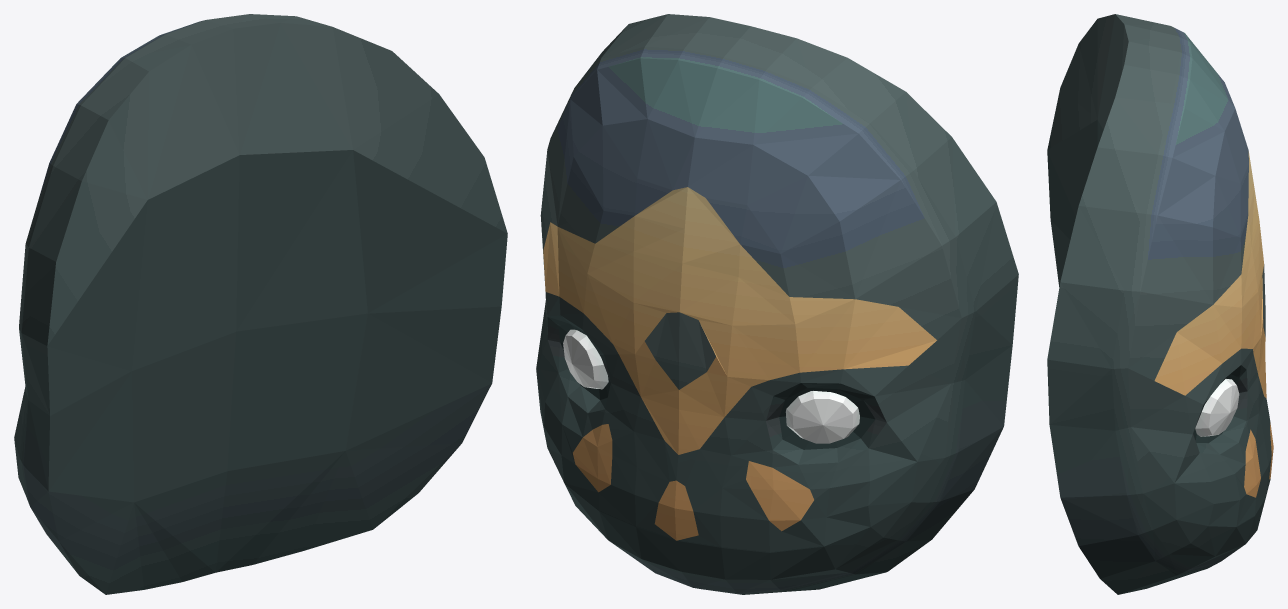
Rendered from CharSkyKid_Mask_AP10QuestGiver_01.glb.
3 views of the same model, side by side, from view 1: azimuth 30°, elevation 25°; view 2: azimuth 150°, elevation 25°; view 3: azimuth 270°, elevation 25° (orthographic). The views are drawn at different scales.
Visible parts, largest first — view 1: CharSkyKid_Mask_AP10QuestGiver_01; view 2: CharSkyKid_Mask_AP10QuestGiver_01; view 3: CharSkyKid_Mask_AP10QuestGiver_01.
Boxes of the visible parts, x1=… form: CharSkyKid_Mask_AP10QuestGiver_01: x1=14, y1=14, x2=507, y2=594; CharSkyKid_Mask_AP10QuestGiver_01: x1=536, y1=14, x2=1018, y2=594; CharSkyKid_Mask_AP10QuestGiver_01: x1=1047, y1=14, x2=1273, y2=594.
Size of the model in its own units: 2.16 by 2.49 by 0.9866.
Materials: 1 (1 with a texture image).
